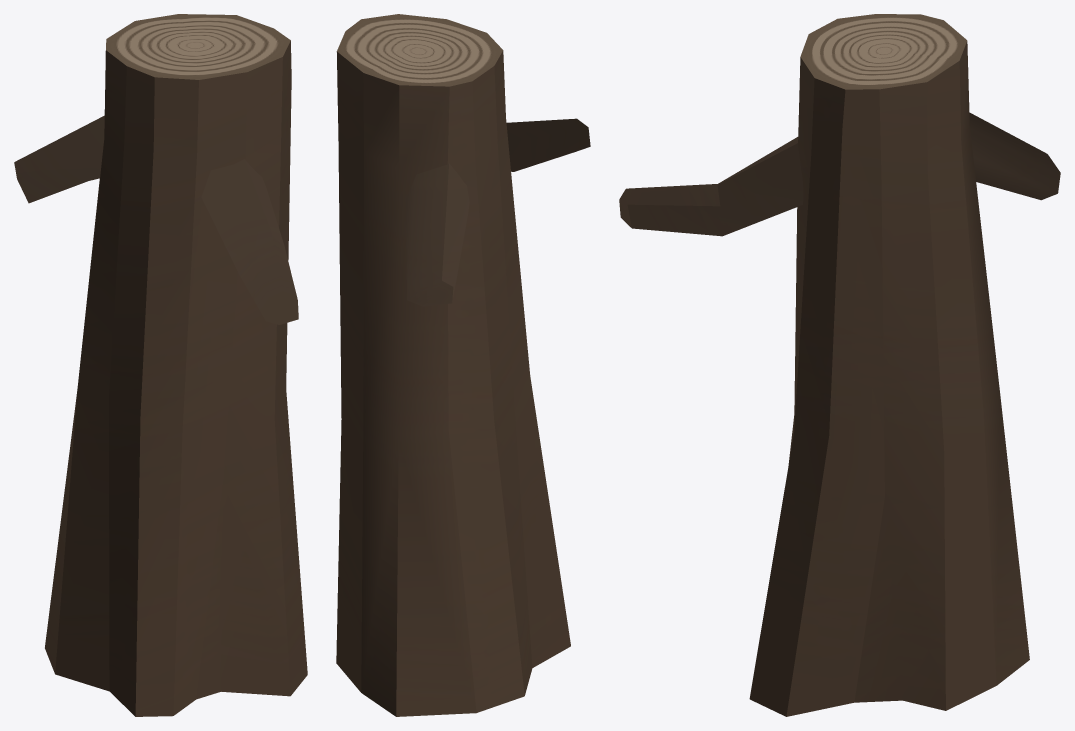
Rendered from PT_Pine_Tree_03_stump.glb.
3 renders of one model, left to right at view 1: azimuth 30°, elevation 25°; view 2: azimuth 150°, elevation 25°; view 3: azimuth 270°, elevation 25°, orthographic. The views are drawn at different scales.
Visible parts, largest first — view 1: PT_Pine_Tree_03_stump; view 2: PT_Pine_Tree_03_stump; view 3: PT_Pine_Tree_03_stump.
Boxes of the visible parts, x1,y1,x2,y2 form: PT_Pine_Tree_03_stump: (14, 14, 307, 716); PT_Pine_Tree_03_stump: (336, 14, 590, 716); PT_Pine_Tree_03_stump: (619, 14, 1060, 716).
Bounding box in the file's own units: 0.3955 × 1.15 × 0.7271.
Materials: 1 (1 with a texture image).
